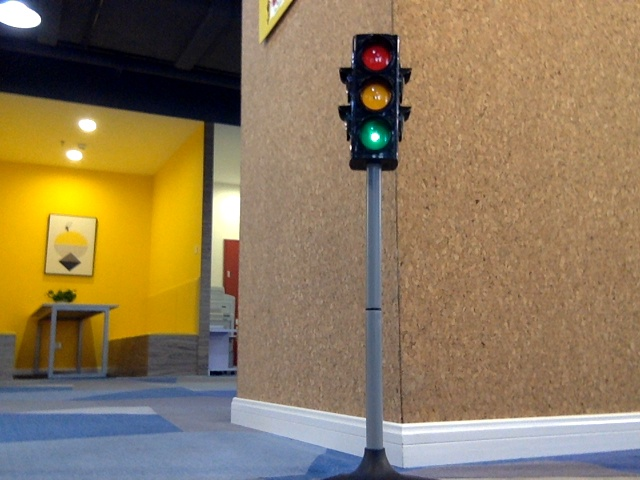yellow: (357, 42, 393, 158)
